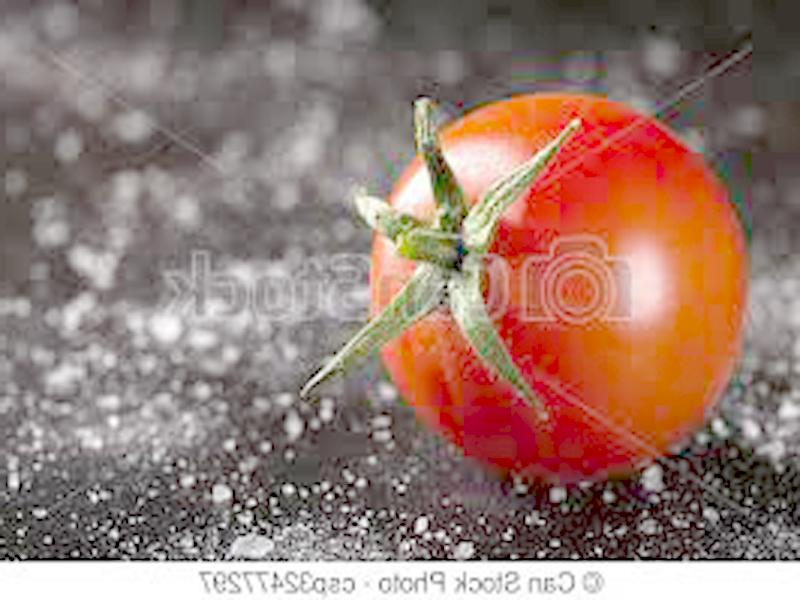Tomato: (369, 92, 748, 476)
